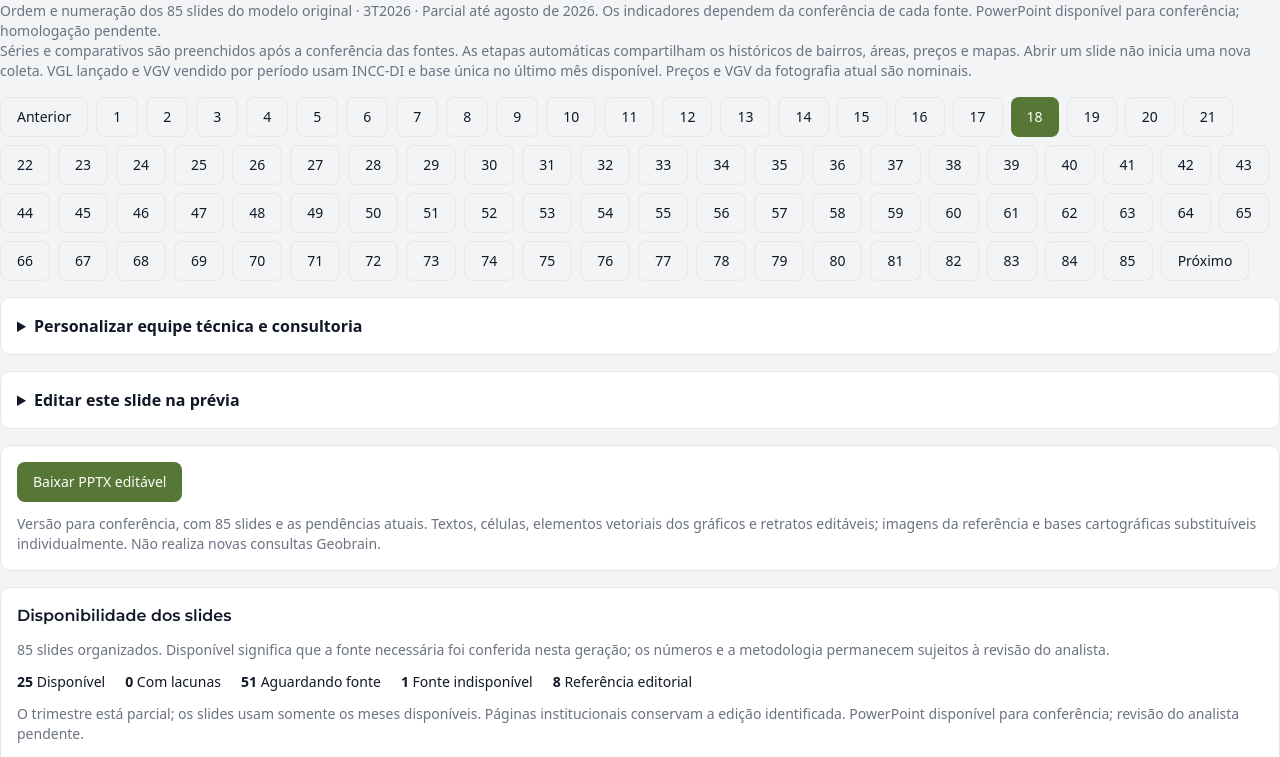
Test: SP — estrutura original e dez slides de lançamentos › preenche exatamente os dez slides 13 a 22 e preserva a parcial
Earlier steps of the test are not shown.
Later steps or results of the test are not shown.
Click the button "19" at (1092, 117), box x1=1067 y1=97 x2=1117 y2=137
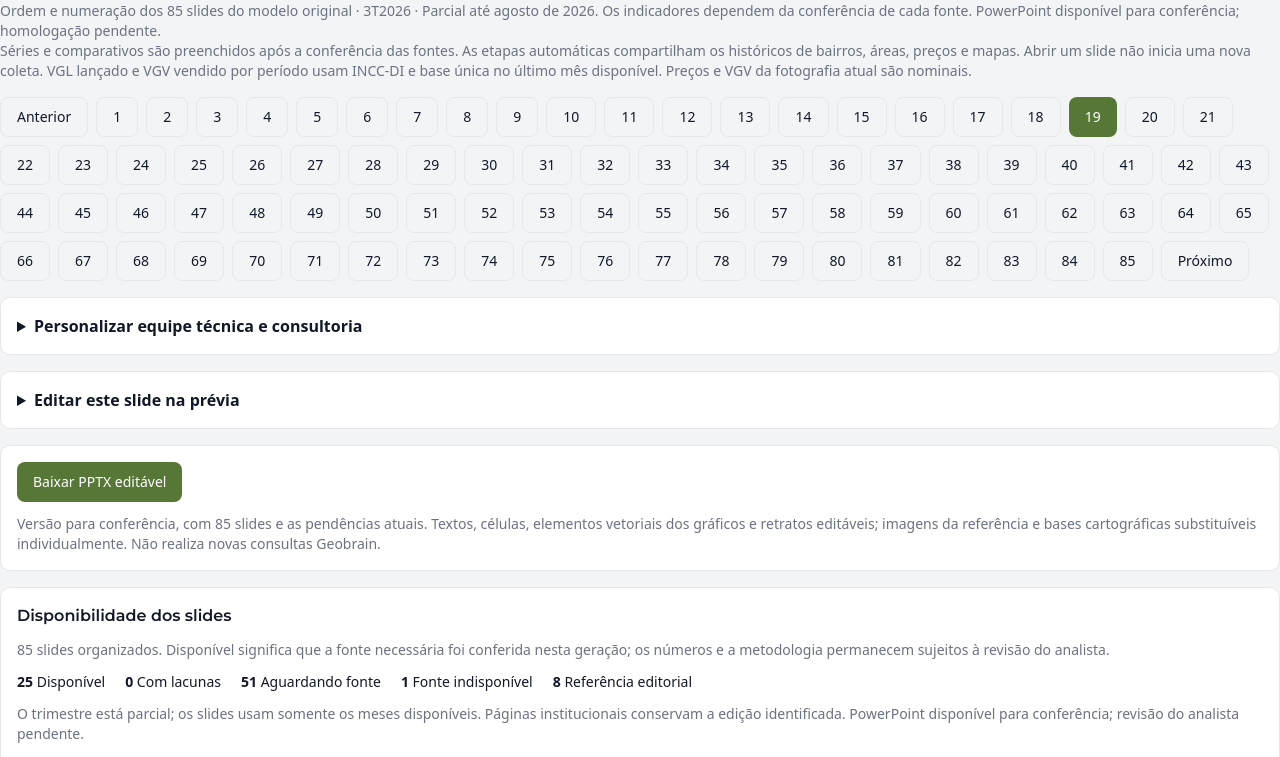
Click the button "20" at (1150, 117), box x1=1125 y1=97 x2=1175 y2=137
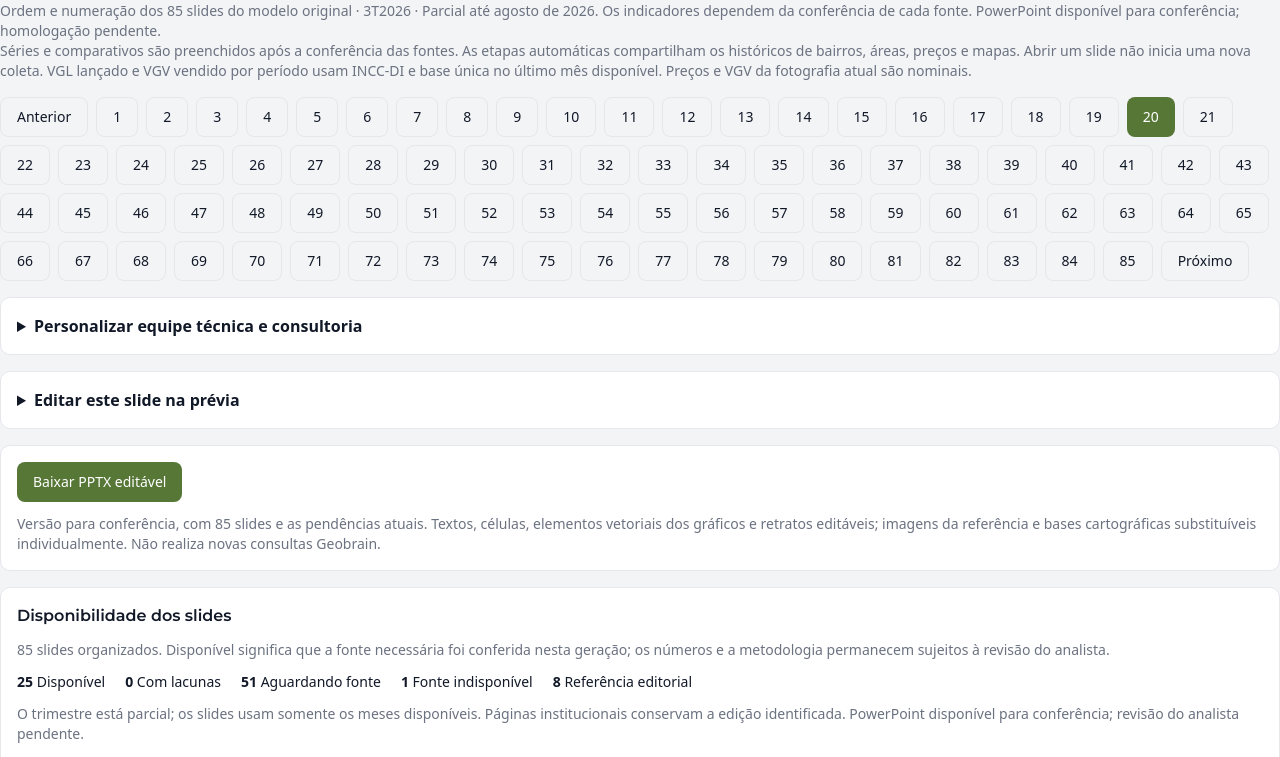
Click the button "21" at (1208, 117), box x1=1183 y1=97 x2=1233 y2=137
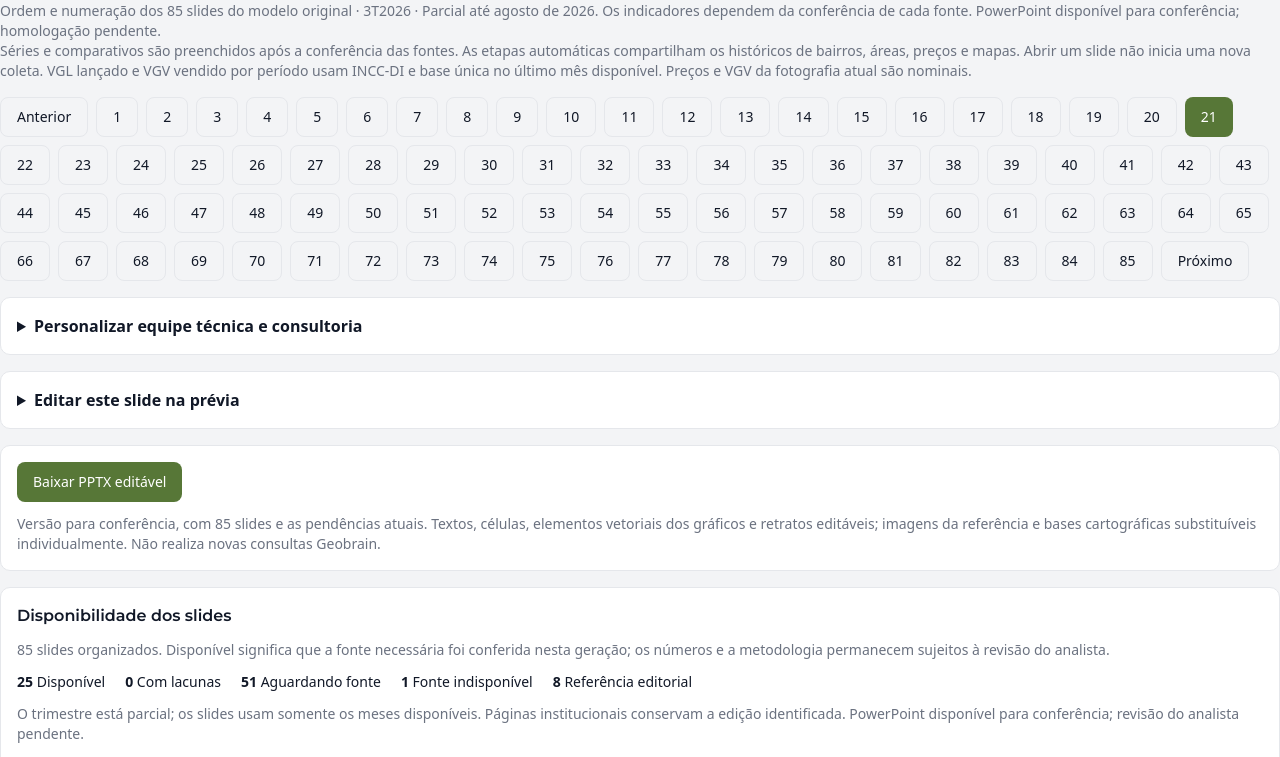
Click the button "22" at (25, 165), box x1=0 y1=145 x2=50 y2=185
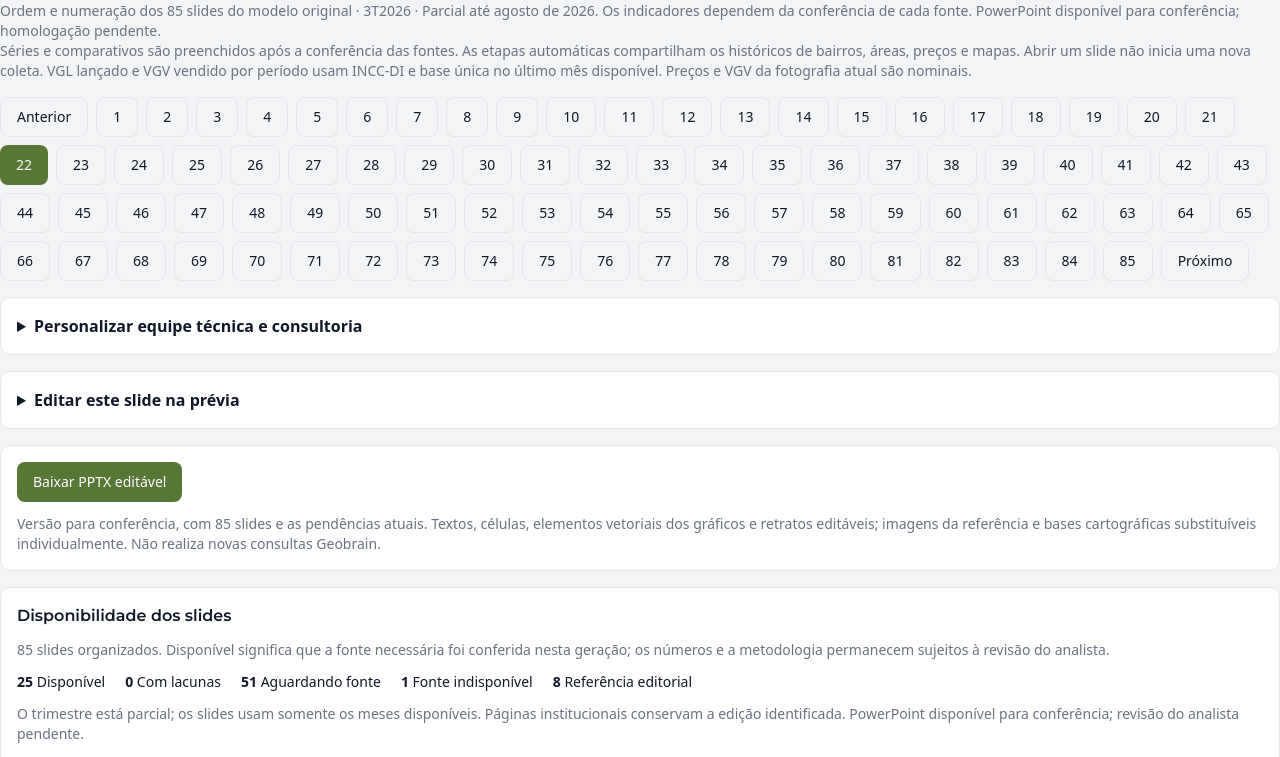
Click the button "13" at (745, 117), box x1=720 y1=97 x2=770 y2=137
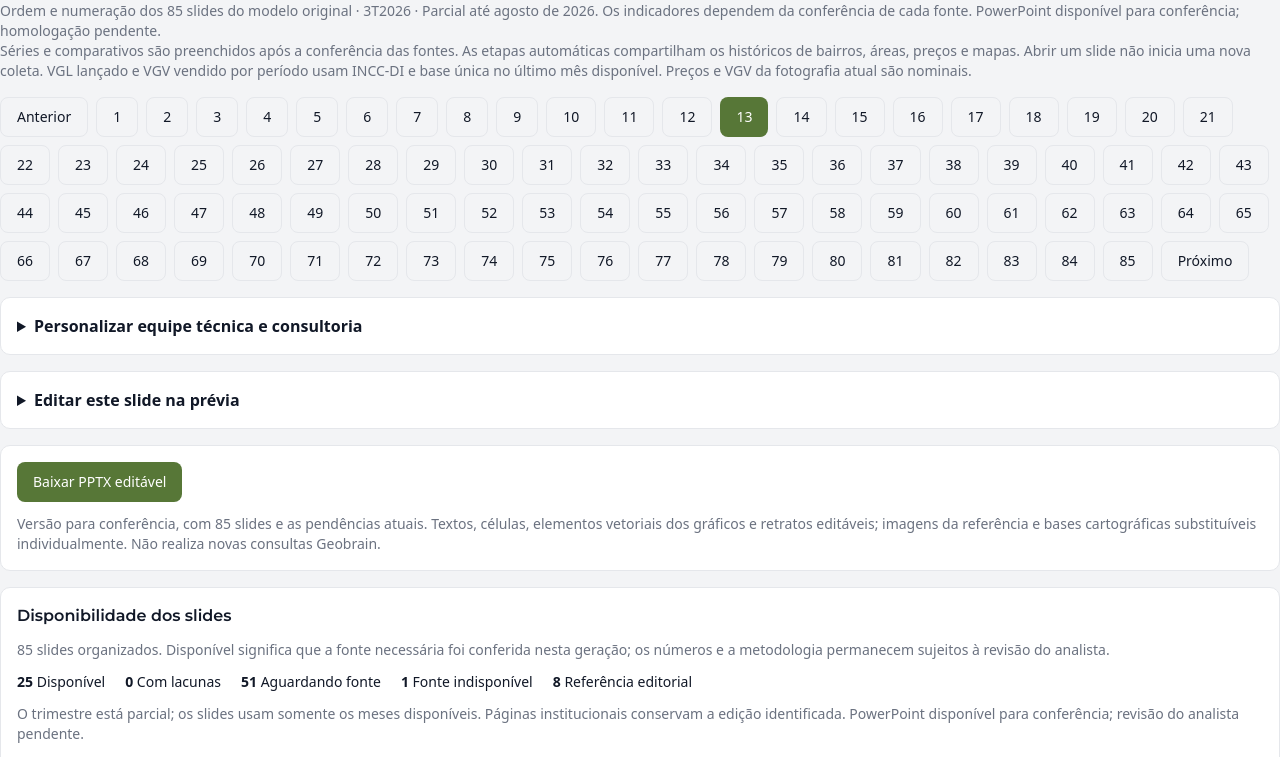
Click the button "14" at (802, 117), box x1=776 y1=97 x2=826 y2=137
(page scrolled)
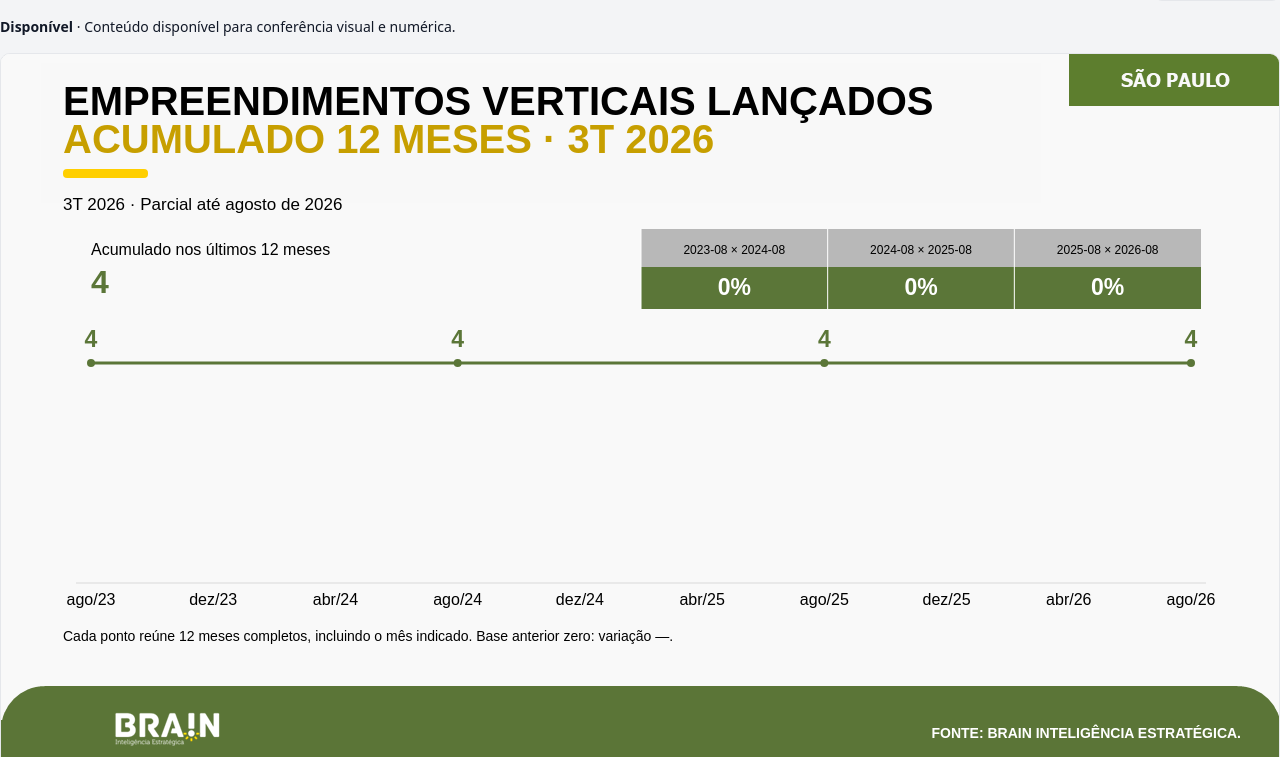
Now the element named "Slide 14: Empreendimentos lançados, móvel 12 meses" shows "ACUMULADO 12 MESES", box x1=63 y1=117 x2=532 y2=161
